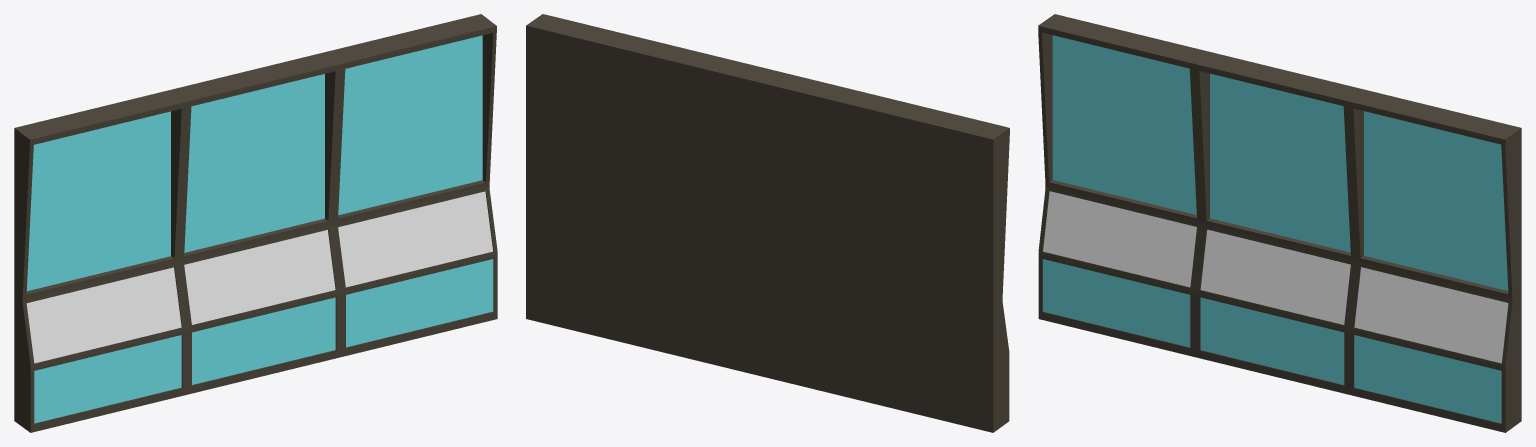
File: P_facadeSIMPLE2AvecBF.FBX
3 renders of one model, left to right at view 1: azimuth 30°, elevation 25°; view 2: azimuth 150°, elevation 25°; view 3: azimuth 330°, elevation 25°, orthographic.
Parts seen in each view (by area): view 1: Box022; view 2: Box022; view 3: Box022.
Boxes of the visible parts, x1,y1,x2,y2 form: Box022: (14, 14, 497, 432); Box022: (526, 14, 1009, 432); Box022: (1038, 14, 1521, 432).
Size of the model in its own units: 501 by 30.03 by 300.
